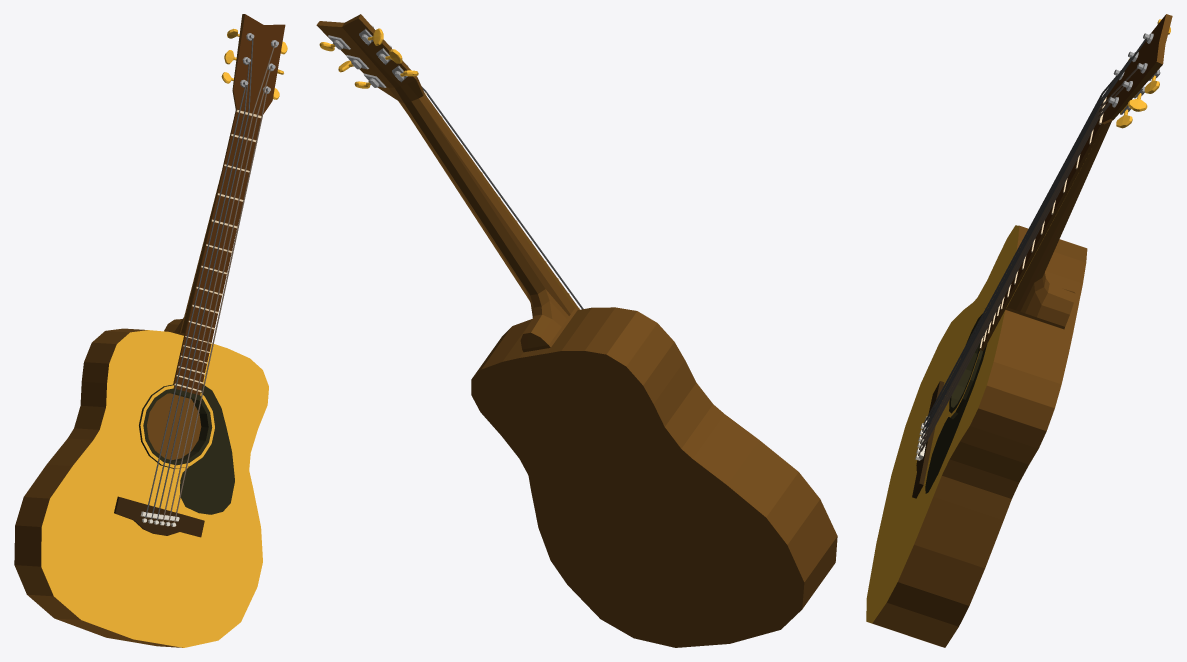
Rendered from guitar.glb.
3 renders of one model, left to right at view 1: azimuth 30°, elevation 25°; view 2: azimuth 150°, elevation 25°; view 3: azimuth 270°, elevation 25°, orthographic. The views are drawn at different scales.
Visible parts, largest first — view 1: Guitar; view 2: Guitar; view 3: Guitar.
Boxes of the visible parts, box(x1,y1,x2,y2) form: Guitar: box(14, 14, 287, 647); Guitar: box(316, 14, 837, 647); Guitar: box(866, 14, 1172, 647).
Size of the model in its own units: 2.12 by 3.24 by 1.24.
